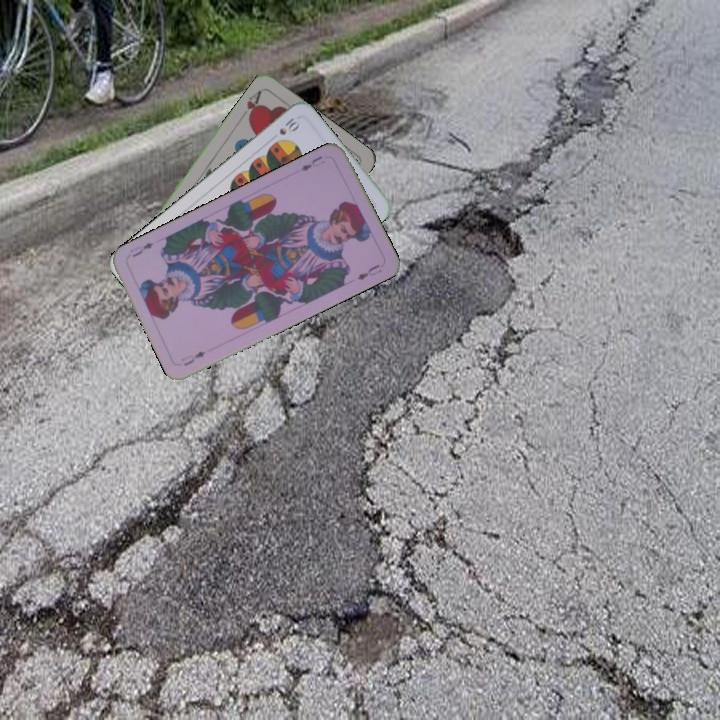EU: (296, 152, 327, 174), (177, 347, 208, 368)
HA: (242, 86, 264, 123)
S10: (275, 112, 302, 138)
